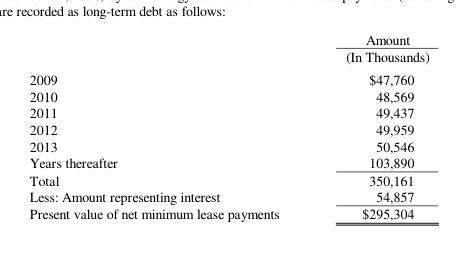table: (28, 28, 428, 222)
table column: (28, 28, 311, 222), (311, 28, 428, 222)
table column header: (28, 28, 428, 67)
table row: (28, 28, 428, 67), (28, 67, 428, 86), (28, 204, 428, 222), (28, 86, 428, 103), (28, 103, 428, 120), (28, 136, 428, 153), (28, 153, 428, 170), (28, 170, 428, 187), (28, 187, 428, 204), (28, 120, 428, 136)
